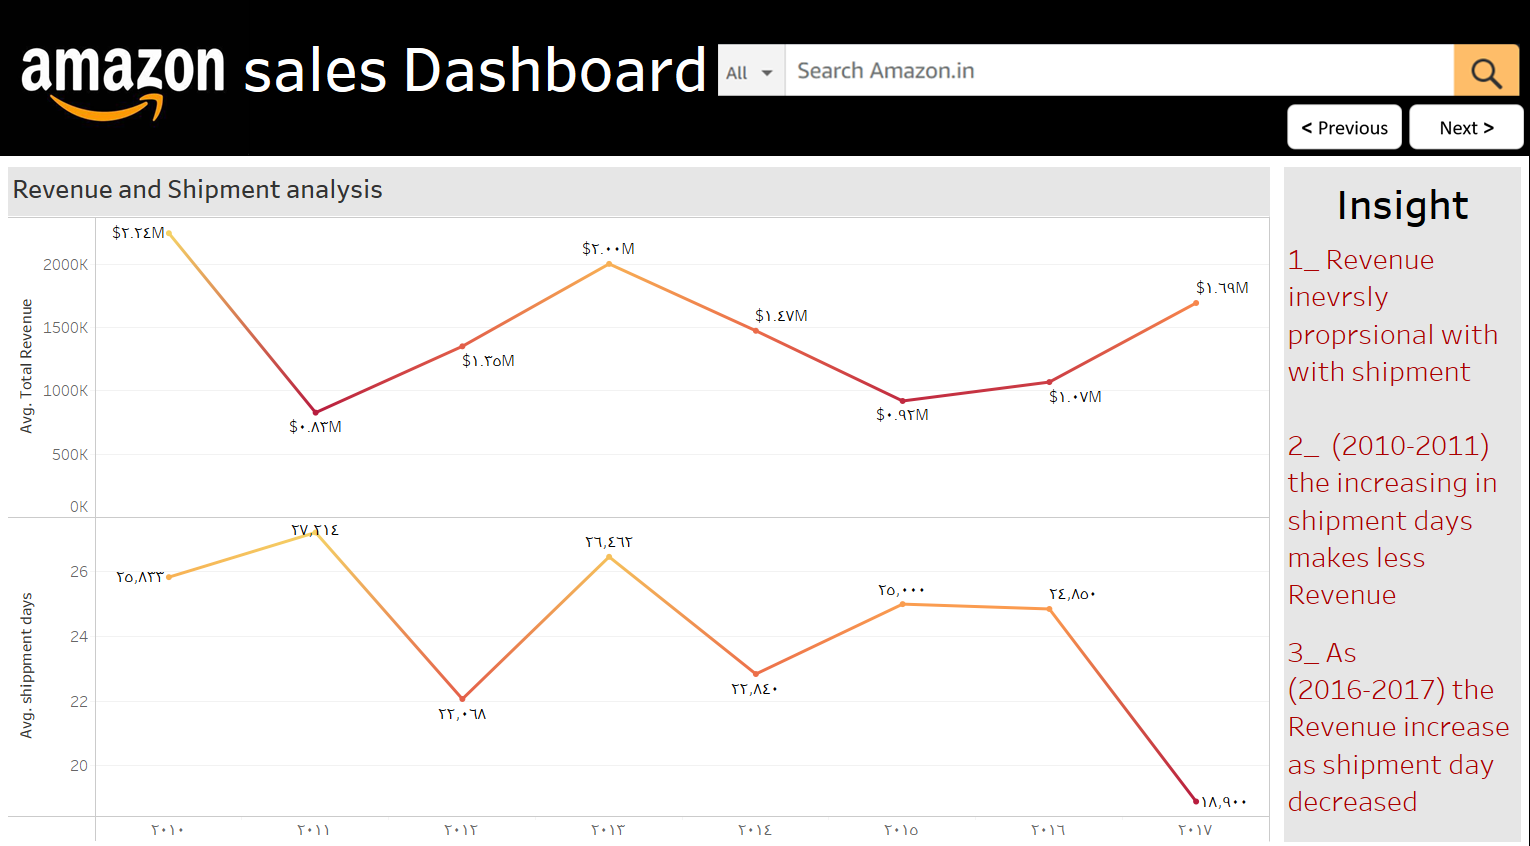

Layout of this report page (visuals, bound fields, positions):
{"tool":"tableau","page":{"name":"Revenue analysis","canvas":[1000,1000],"units":"permille","ordinal":3},"visuals":[{"type":"image","param":"Image/OIP (1).jpeg","box":[5.2,2.3,165.2,181.4]},{"type":"image","param":"Image/Picture5.png","box":[471,14,517.4,141.9]},{"type":"dashboard-object","box":[838.1,122.1,74.2,64]},{"type":"dashboard-object","box":[916.8,122.1,74.2,64]},{"type":"worksheet","title":"Revenue and Shipment analysis ","mark":"Line","rows":["Total Revenue","Calculation_639511169306796033"],"cols":["Order Date"],"box":[12.9,197.7,814.2,784.9]},{"type":"text","box":[836.1,197.7,152.9,784.9]},{"type":"text","box":[837.4,204.7,150.3,68.6]}]}

Visuals, with their boxes on the dashboard's canvas, which has no fixed pixel size, in thousandths of its width and height (x1, y1, x2, y2). These are canvas units, not pixel positions in the 1530x846 screenshot, which may show the page scaled, cropped or inside an application window:
image: {"left": 5, "top": 2, "right": 170, "bottom": 184}
image: {"left": 471, "top": 14, "right": 988, "bottom": 156}
dashboard-object: {"left": 838, "top": 122, "right": 912, "bottom": 186}
dashboard-object: {"left": 917, "top": 122, "right": 991, "bottom": 186}
"Revenue and Shipment analysis " worksheet (Line marks): {"left": 13, "top": 198, "right": 827, "bottom": 983}
text: {"left": 836, "top": 198, "right": 989, "bottom": 983}
text: {"left": 837, "top": 205, "right": 988, "bottom": 273}
